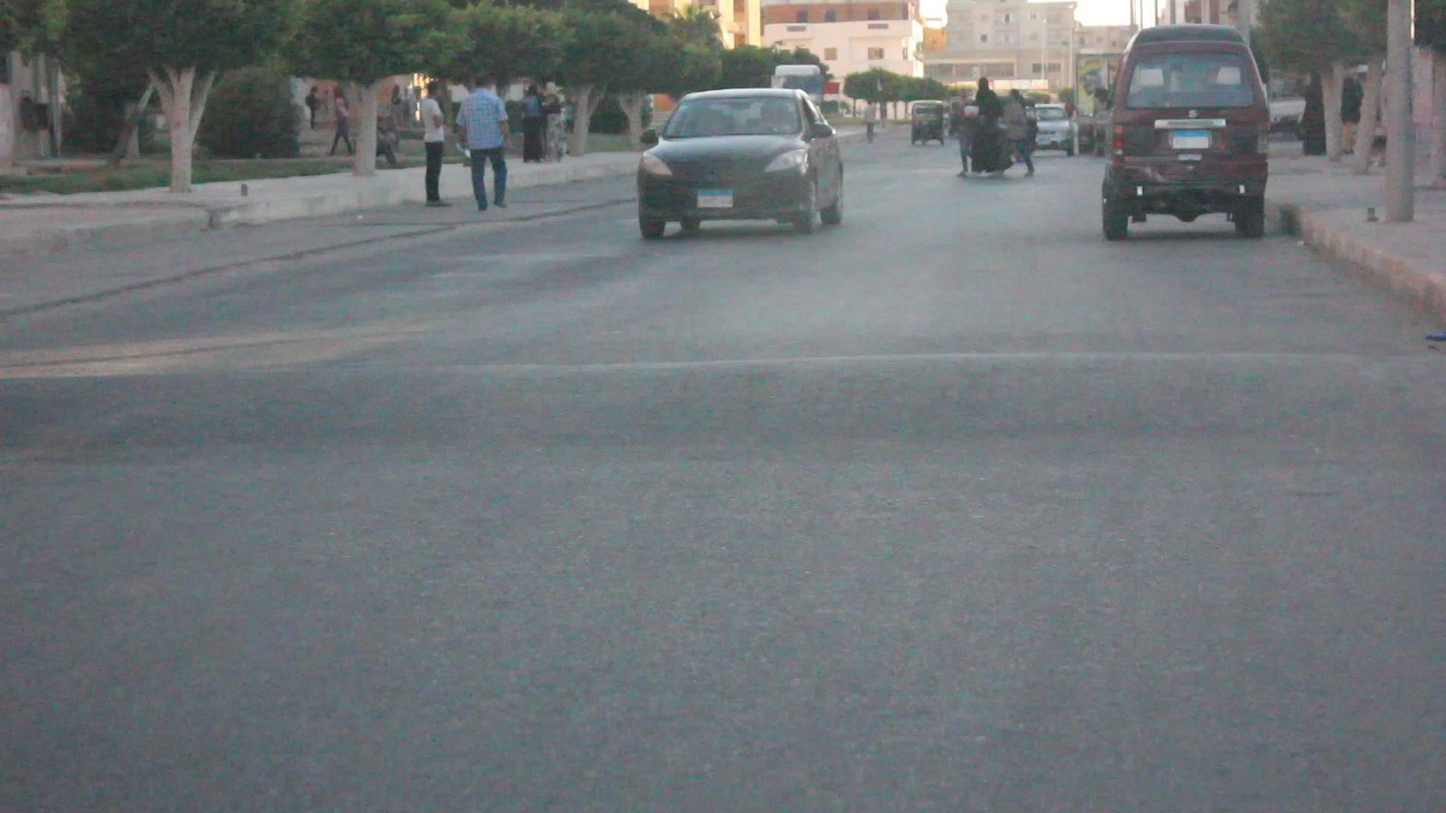Bump: (2, 356, 1446, 469)
